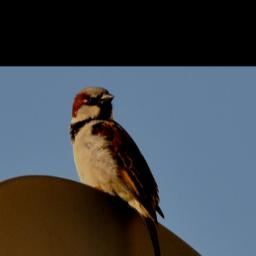Swallow: (68, 87, 165, 256)
